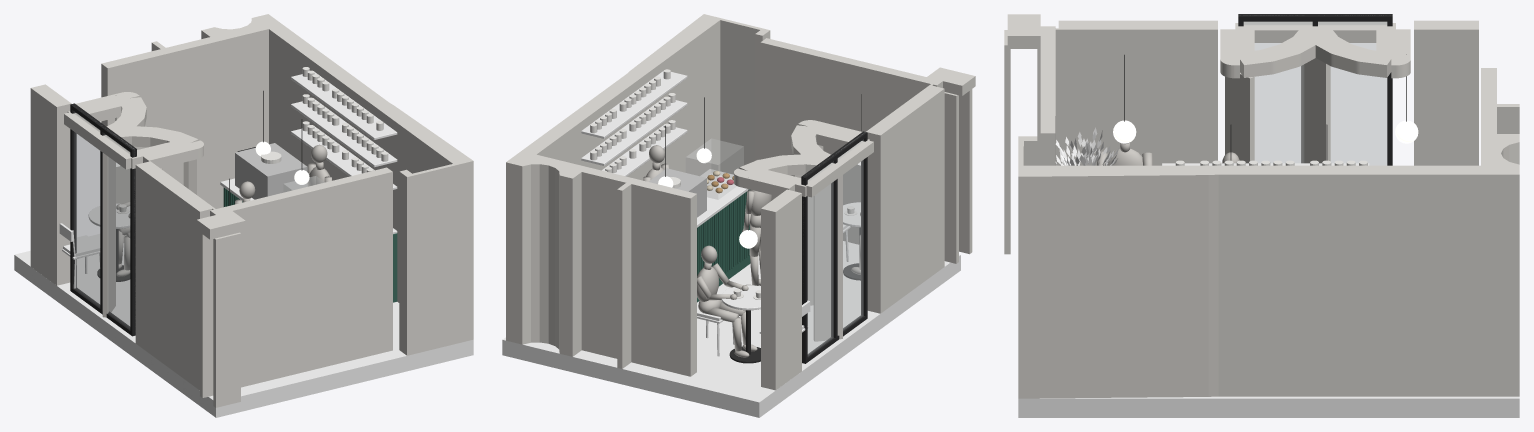
File: interior_LB1.glb
The picture shows the model from 3 angles, left to right: view 1: azimuth 30°, elevation 25°; view 2: azimuth 150°, elevation 25°; view 3: azimuth 270°, elevation 25°; orthographic projection. The views are drawn at different scales.
Parts seen in each view (by area): view 1: MUROS_LB1.001; view 2: MUROS_LB1.001; view 3: MUROS_LB1.001.
Boxes of the visible parts, x1,y1,x2,y2 form: MUROS_LB1.001: (14, 14, 473, 417); MUROS_LB1.001: (502, 14, 975, 417); MUROS_LB1.001: (1004, 14, 1519, 417).
Bounding box in the file's own units: 3.61 × 2.6 × 4.84.
